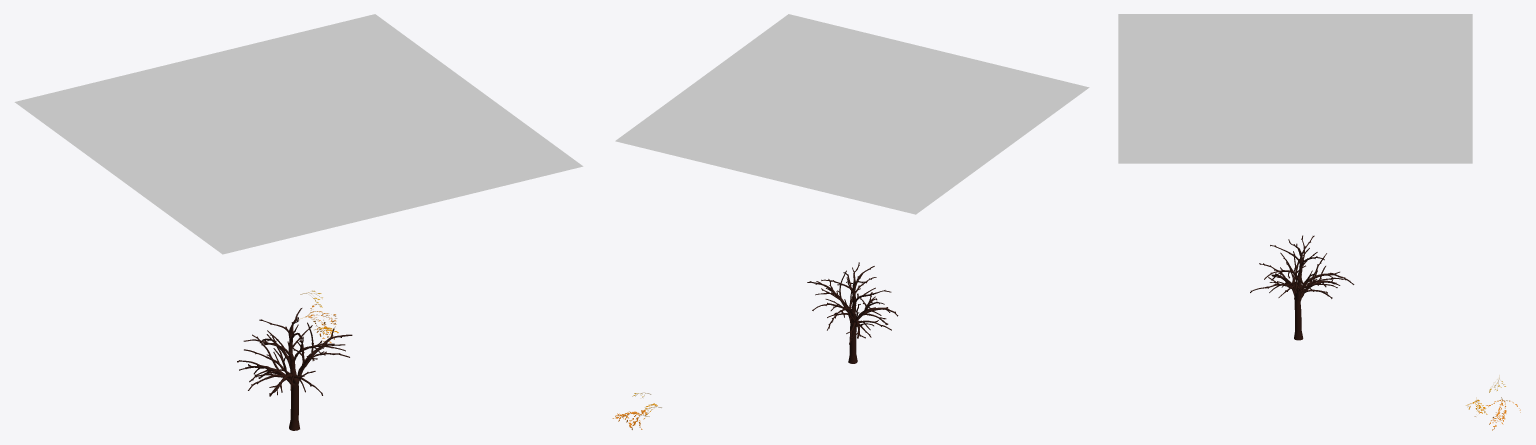
File: holy_tree.fbx
3 views of the same model, side by side, from view 1: azimuth 30°, elevation 25°; view 2: azimuth 150°, elevation 25°; view 3: azimuth 270°, elevation 25° (orthographic). The views are drawn at different scales.
Parts seen in each view (by area): view 1: Plane.006, tree.001; view 2: Plane.006, tree.001; view 3: Plane.006, tree.001.
Part boxes in pixels (x1=…): Plane.006: x1=14, y1=14, x2=583, y2=254; tree.001: x1=237, y1=308, x2=352, y2=430; Plane.006: x1=615, y1=14, x2=1089, y2=214; tree.001: x1=807, y1=262, x2=898, y2=363; Plane.006: x1=1118, y1=14, x2=1472, y2=163; tree.001: x1=1250, y1=235, x2=1354, y2=340.
Size of the model in its own units: 7492 by 6558 by 8526.
